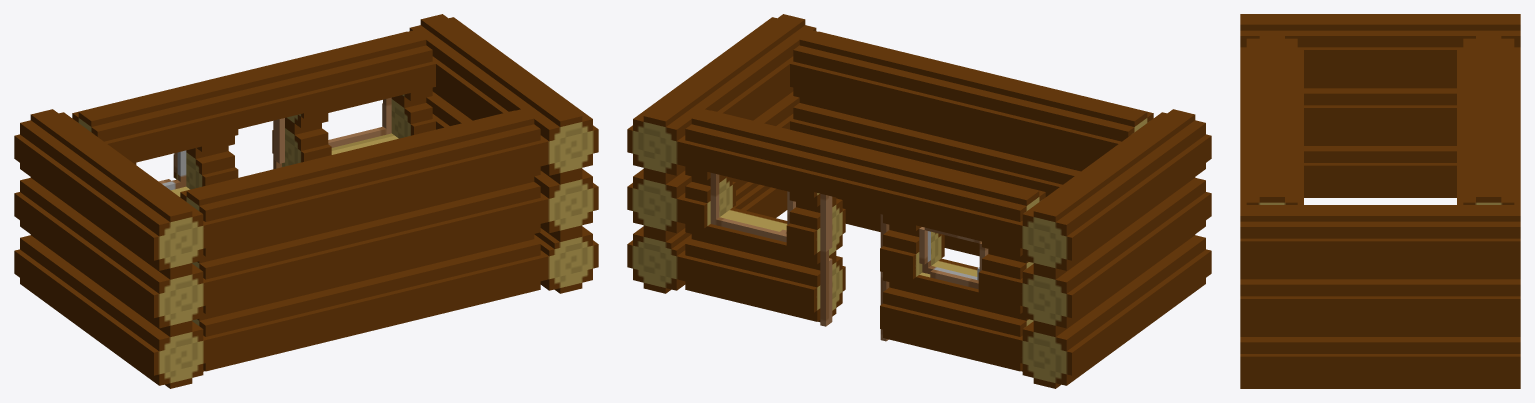
File: Walls.fbx
The picture shows the model from 3 angles, left to right: view 1: azimuth 30°, elevation 25°; view 2: azimuth 150°, elevation 25°; view 3: azimuth 270°, elevation 25°; orthographic projection.
Parts seen in each view (by area): view 1: Walls; view 2: Walls; view 3: Walls.
Part boxes in pixels (<box>): Walls: <box>14,14,598,388</box>; Walls: <box>627,14,1211,388</box>; Walls: <box>1240,14,1520,388</box>.
Size of the model in its own units: 81 by 30 by 44.
1 material, 1 textured.
